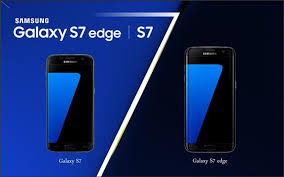samsung: (182, 43, 238, 154), (45, 50, 94, 152)
